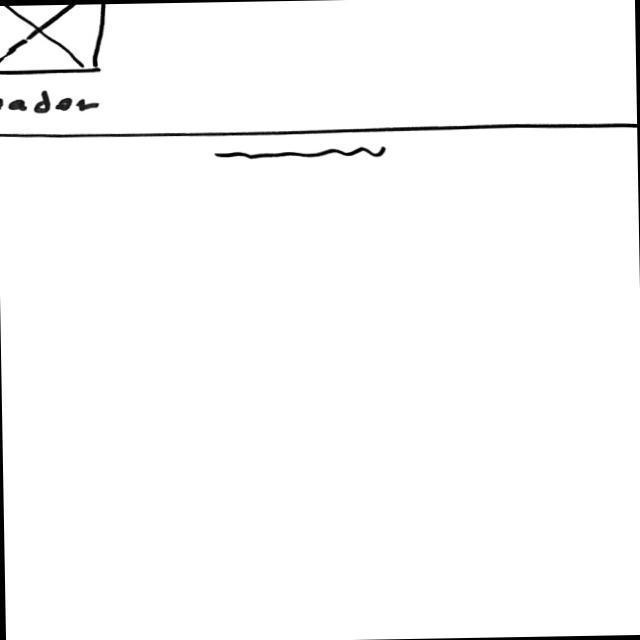image: (1, 4, 113, 77)
label: (1, 83, 105, 117)
text: (213, 142, 390, 167)
